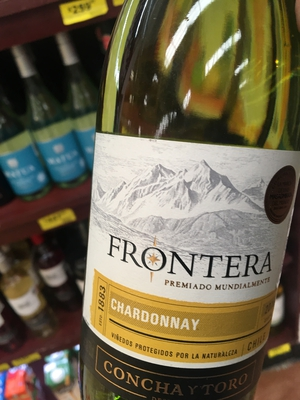frontera chardonnay: (80, 11, 297, 400)
